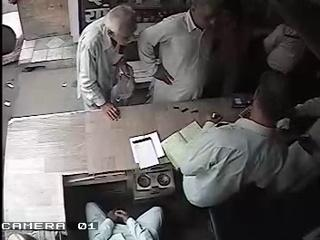Normal: (164, 70, 304, 240), (137, 0, 236, 104), (75, 4, 139, 122), (85, 202, 163, 239)
